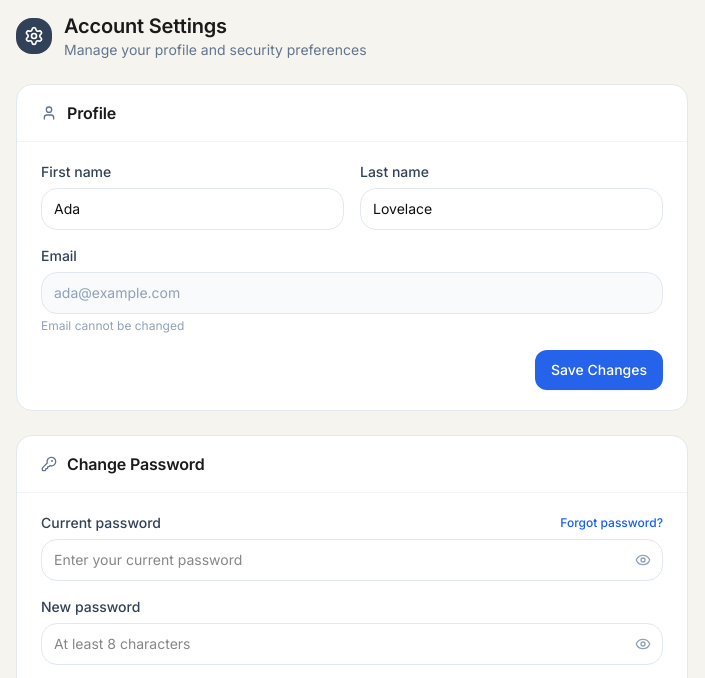
it: Settings page › saves the profile
Step 1. Replace the text in the field showing "Ada" below "First name" with "Augusta" → (192, 209), box [41,188,344,230]
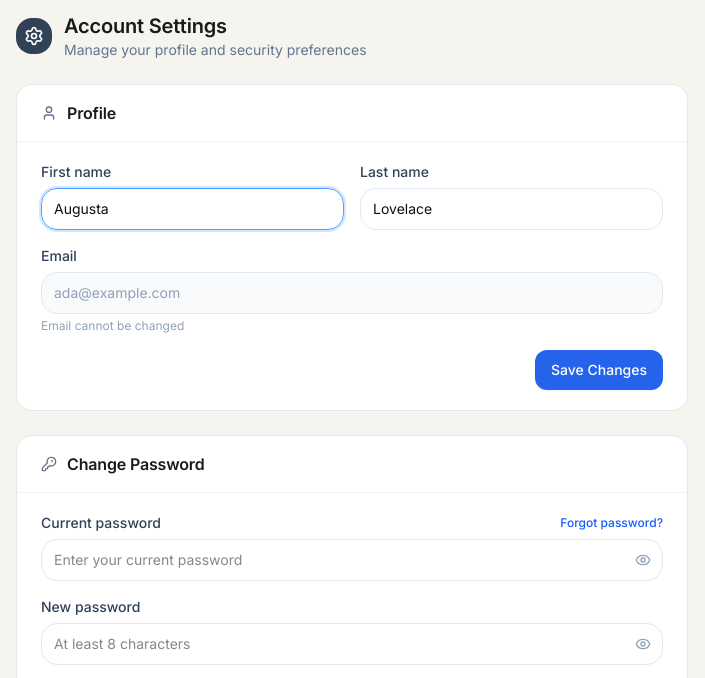
Step 2. Click the button "Save Changes" → (599, 370), box [535,350,663,390]
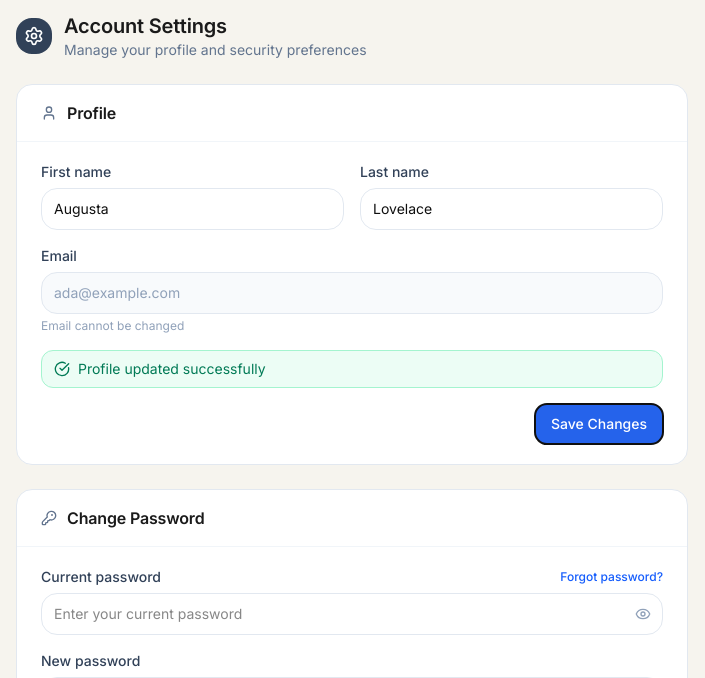
Check: the text "Profile updated successfully" is shown, box [41,350,663,388]
